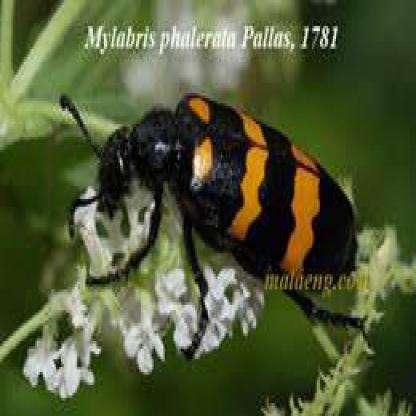blister beetle: (60, 89, 364, 359)
